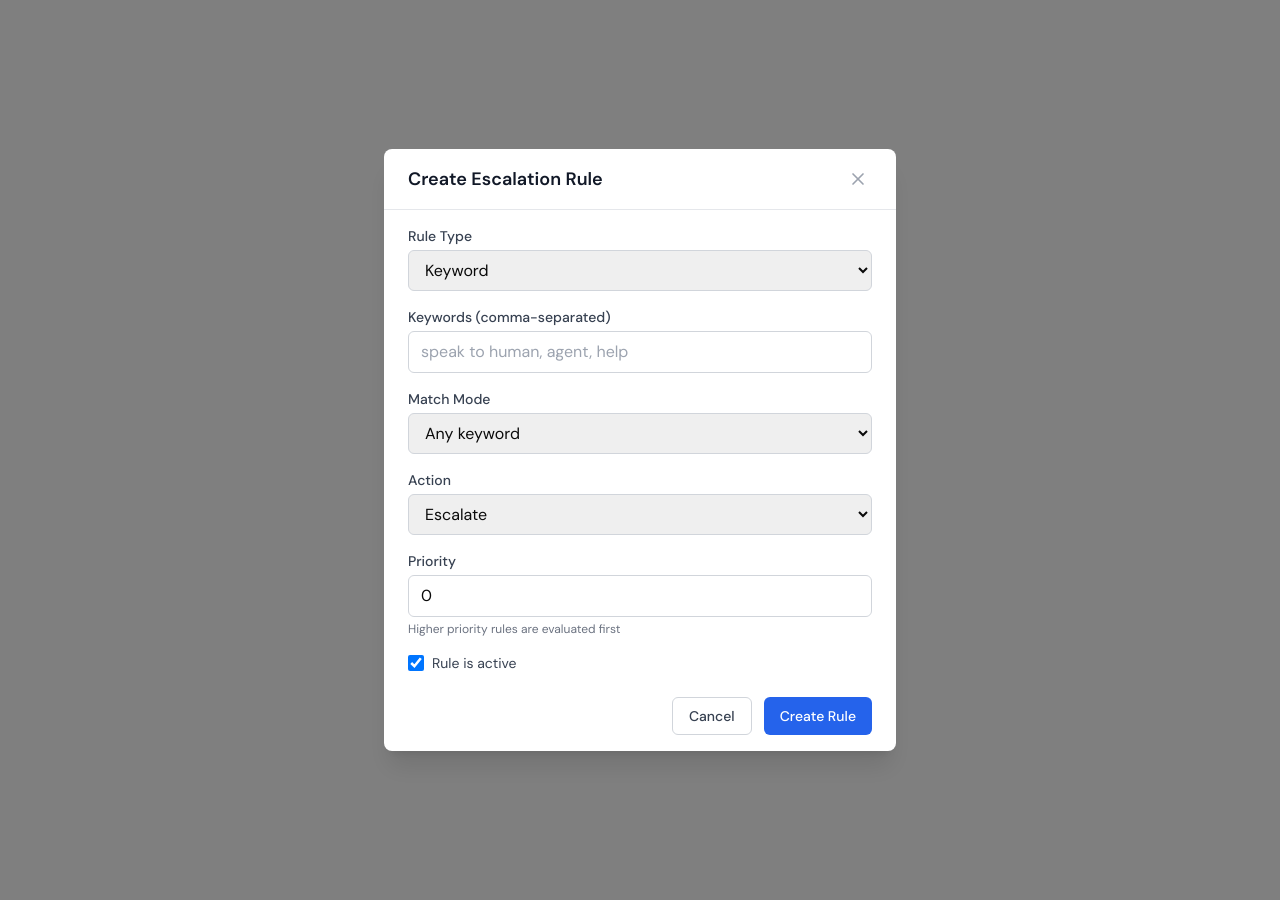
Scenario: EscalationRuleForm › validates that keywords are required for keyword type
// Submit without filling keywords
Click the button "Create Rule" at (818,716), box [764,697,872,735]
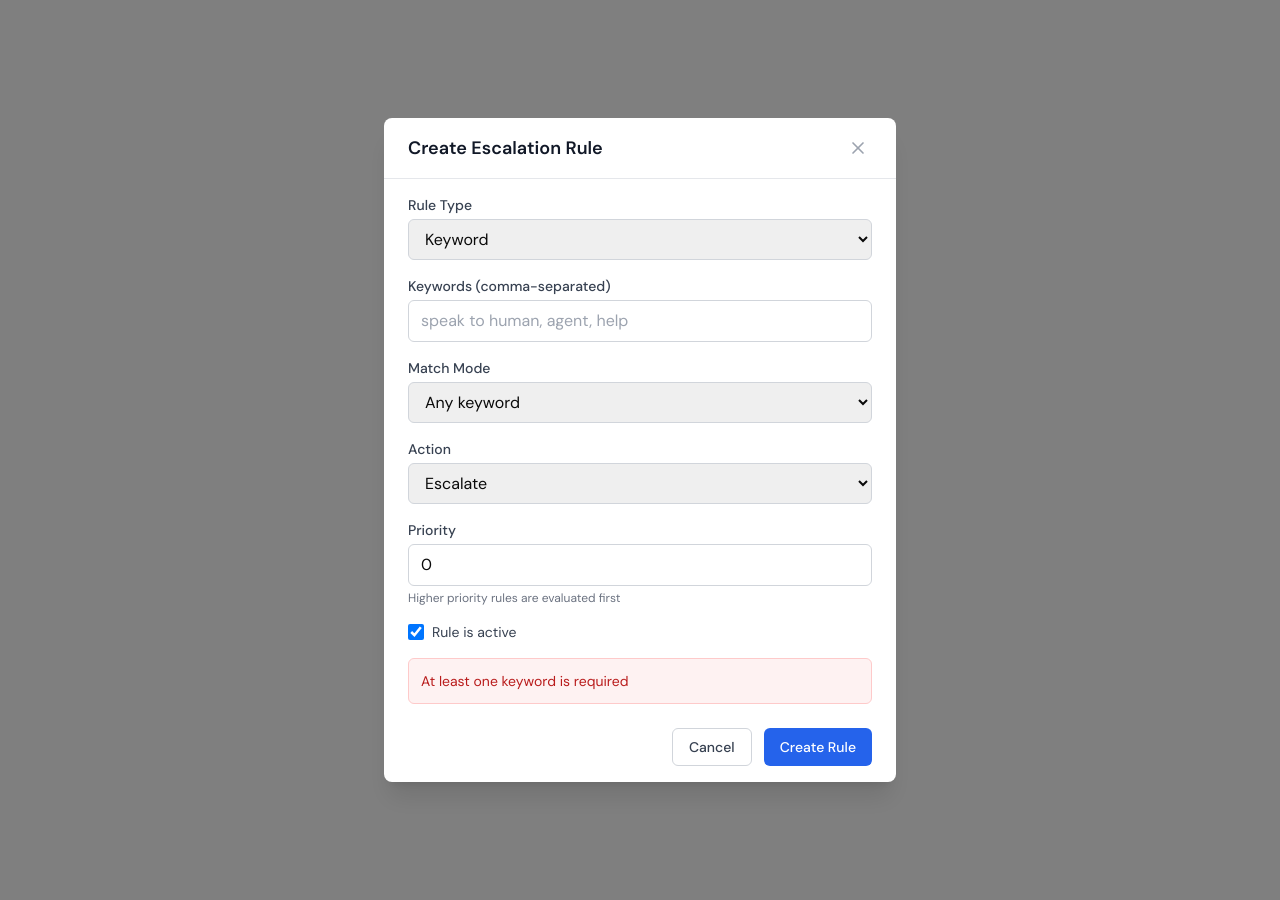
Now the text "At least one keyword is required" is shown, box [408,658,872,704]
